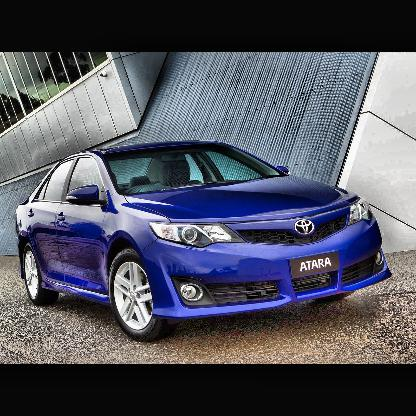Toyota Camry Sedan 2012: (14, 136, 395, 344)
